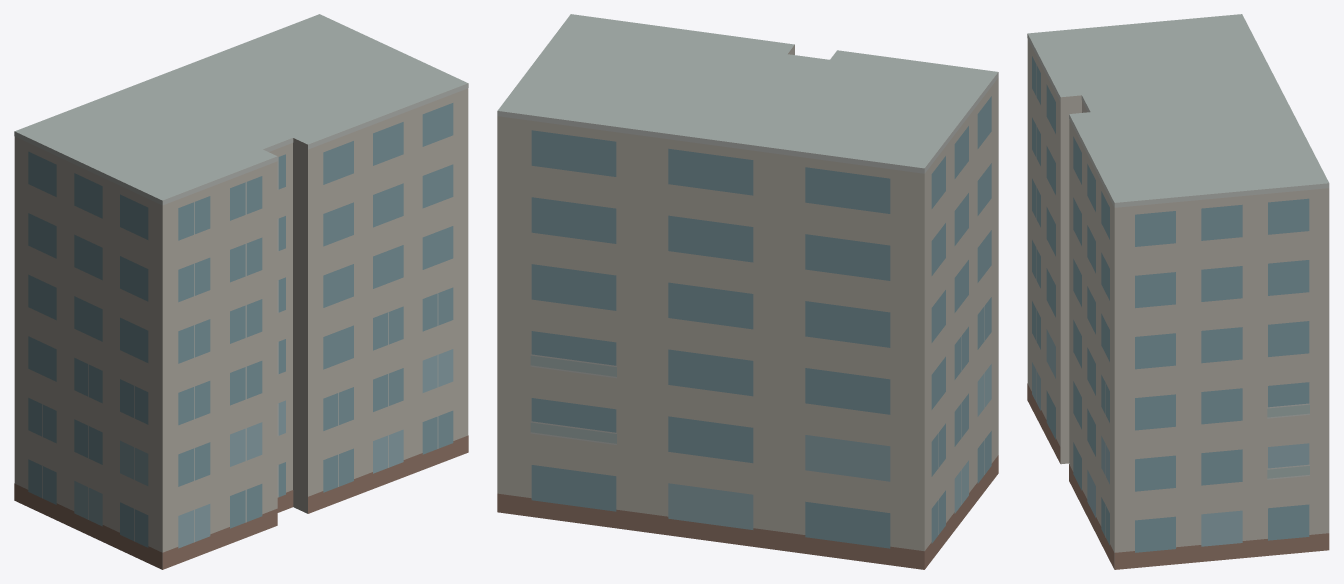
File: survey-upis-32925760.glb
The picture shows the model from 3 angles, left to right: view 1: azimuth 30°, elevation 25°; view 2: azimuth 150°, elevation 25°; view 3: azimuth 270°, elevation 25°; orthographic projection. The views are drawn at different scales.
Parts seen in each view (by area): view 1: survey-upis-32925760.tmp; view 2: survey-upis-32925760.tmp; view 3: survey-upis-32925760.tmp.
Part boxes in pixels (x1,y1,x2,y2): survey-upis-32925760.tmp: [14, 14, 468, 569]; survey-upis-32925760.tmp: [497, 14, 998, 569]; survey-upis-32925760.tmp: [1027, 14, 1329, 569].
Bounding box in the file's own units: 20.22 × 18.3 × 13.66.
